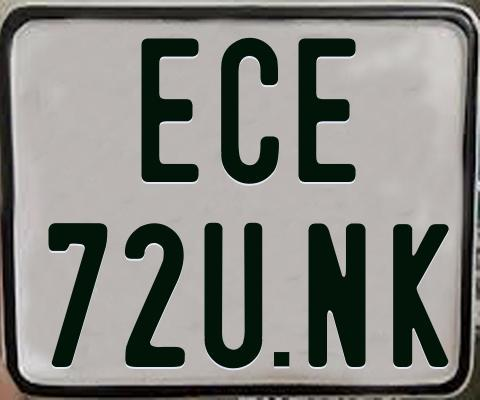2: (123, 221, 185, 366)
7: (46, 222, 108, 367)
C: (220, 38, 280, 190)
E: (296, 36, 360, 186), (141, 37, 199, 181)
K: (390, 222, 452, 365)
N: (306, 222, 365, 371)
U: (202, 221, 260, 367)
